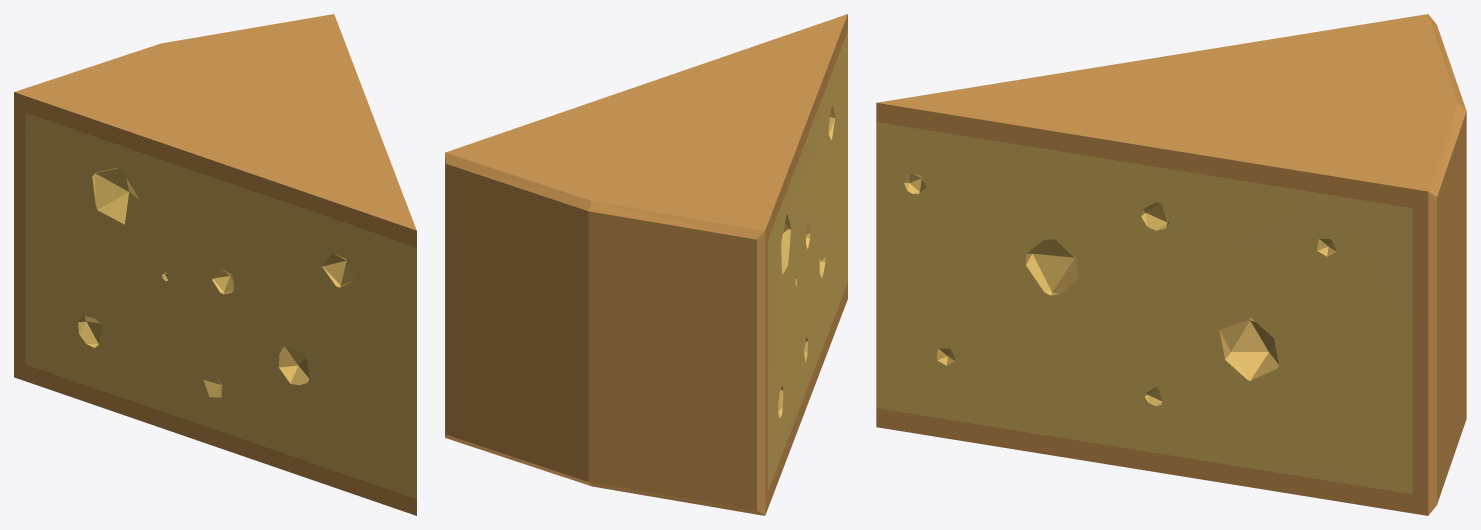
Rendered from Cheese.fbx.
The picture shows the model from 3 angles, left to right: view 1: azimuth 30°, elevation 25°; view 2: azimuth 150°, elevation 25°; view 3: azimuth 270°, elevation 25°; orthographic projection. The views are drawn at different scales.
Visible parts, largest first — view 1: Cheese; view 2: Cheese; view 3: Cheese.
Boxes of the visible parts, x1,y1,x2,y2 form: Cheese: (14, 14, 416, 515); Cheese: (445, 14, 847, 515); Cheese: (876, 14, 1466, 515).
Bounding box in the file's own units: 0.1854 × 0.1579 × 0.2604.
